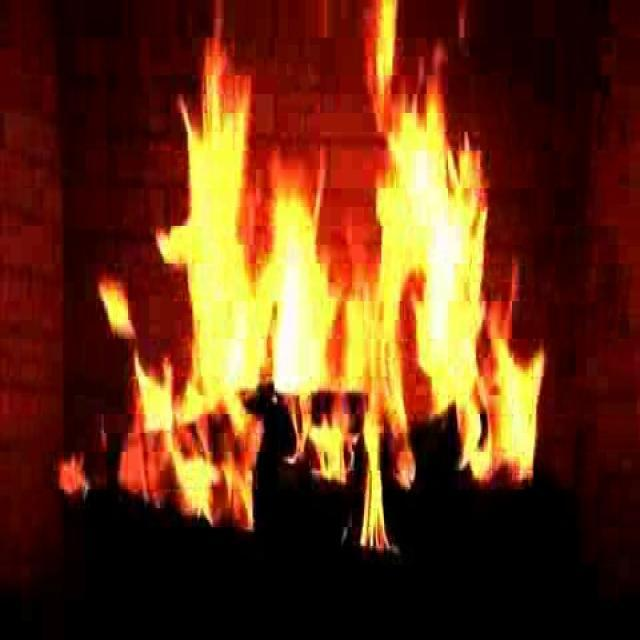Fire: (138, 72, 532, 522)
